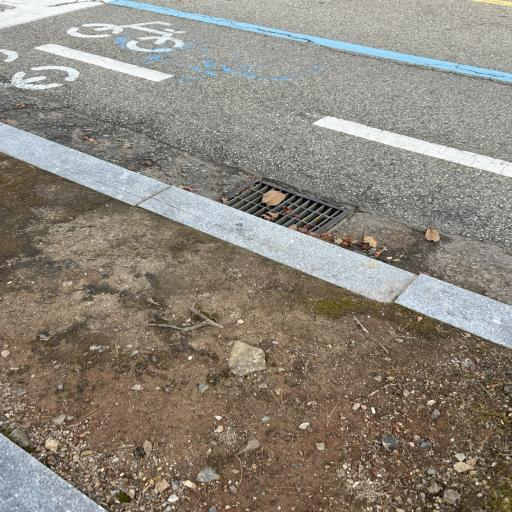debris: (291, 224, 321, 237), (262, 190, 285, 205), (264, 207, 293, 218), (293, 212, 300, 220)
drain: (221, 178, 351, 236)
